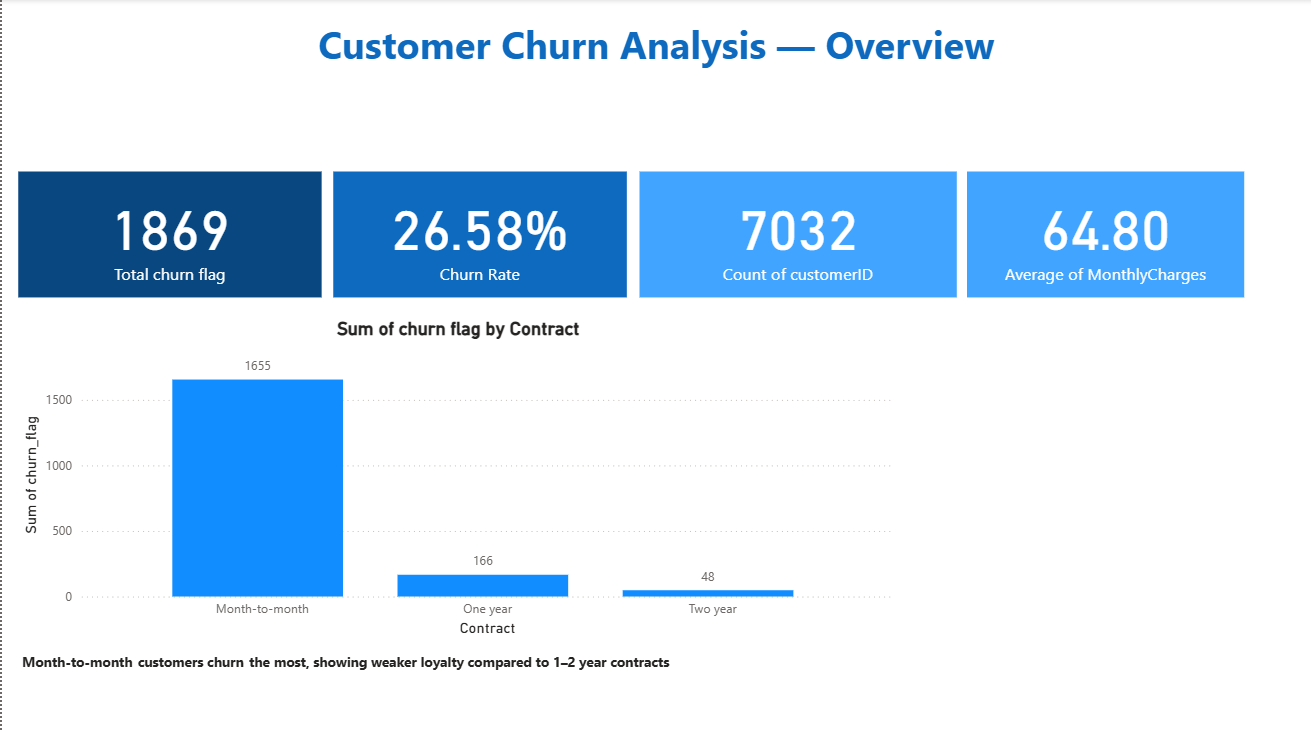

The page's visual inventory and layout, read from the dashboard file:
{"tool":"powerbi","page":{"name":"Page 1","canvas":[1280,720],"ordinal":0},"visuals":[{"type":"card","fields":{"Values":["Count(telco_customers.customerID)"]},"box":[623.6,168.8,310.6,123.5],"z":0},{"type":"card","fields":{"Values":["Sum(telco_customers.churn_flag)"]},"box":[15.9,168.8,297.1,123.5],"z":1000},{"type":"card","fields":{"Values":["telco_customers.ChurnRate"]},"box":[324.1,168.8,287.4,123.5],"z":2000},{"type":"card","fields":{"Values":["Avg(telco_customers.MonthlyCharges)"]},"box":[944,168.8,271.5,123.5],"z":3000},{"type":"clusteredColumnChart","title":"Sum of churn flag by Contract","fields":{"Category":["telco_customers.Contract"],"Y":["Sum(telco_customers.churn_flag)"]},"box":[15.9,311.8,860.9,316.7],"z":4000},{"type":"textbox","box":[0,13.7,1280.3,79.6],"z":5000},{"type":"textbox","box":[943.6,310.9,272.1,112.3],"z":5001},{"type":"textbox","box":[14.7,628.5,699.5,53.8],"z":5002}]}

Visuals, with their boxes in screenshot pixels (x1, y1, x2, y2), scaled from the page's 1280x720 canvas onto the 1311x732 screenshot:
card - Count(telco_customers.customerID): (x1=639, y1=172, x2=957, y2=297)
card - Sum(telco_customers.churn_flag): (x1=16, y1=172, x2=321, y2=297)
card - telco_customers.ChurnRate: (x1=332, y1=172, x2=626, y2=297)
card - Avg(telco_customers.MonthlyCharges): (x1=967, y1=172, x2=1245, y2=297)
"Sum of churn flag by Contract" clusteredColumnChart: (x1=16, y1=317, x2=898, y2=639)
textbox: (x1=0, y1=14, x2=1310, y2=95)
textbox: (x1=966, y1=316, x2=1245, y2=430)
textbox: (x1=15, y1=639, x2=731, y2=694)
